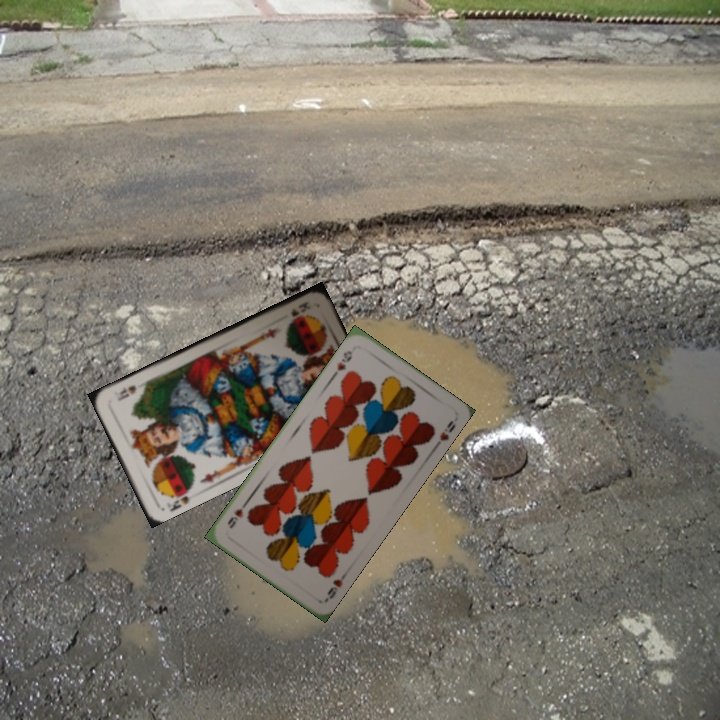H9: (321, 568, 350, 604), (333, 346, 355, 373)
SK: (165, 491, 192, 514), (287, 297, 311, 319)
